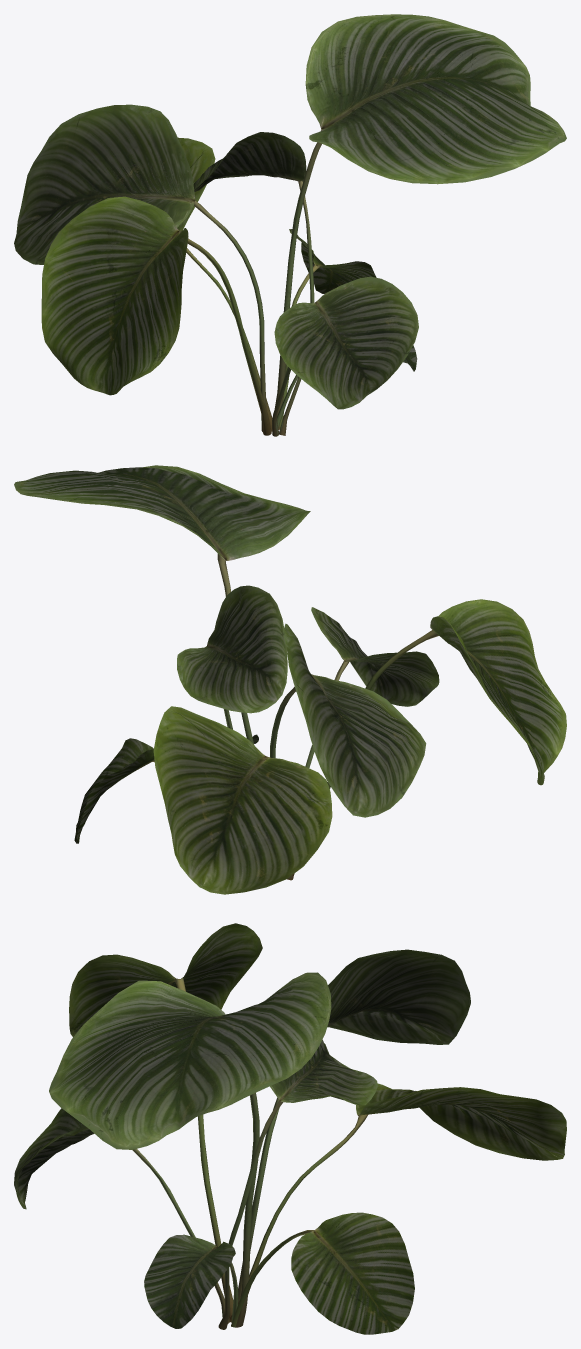
The model's file is calathea.glb.
3 views of the same model, one above another, from view 1: azimuth 30°, elevation 25°; view 2: azimuth 150°, elevation 25°; view 3: azimuth 270°, elevation 25° (orthographic). The views are drawn at different scales.
Visible parts, largest first — view 1: calathea_orbifolia_01_a; view 2: calathea_orbifolia_01_a; view 3: calathea_orbifolia_01_a.
Boxes of the visible parts, x1=… form: calathea_orbifolia_01_a: x1=14, y1=14, x2=566, y2=436; calathea_orbifolia_01_a: x1=14, y1=465, x2=566, y2=894; calathea_orbifolia_01_a: x1=14, y1=923, x2=566, y2=1334.
Bounding box in the file's own units: 0.6006 × 0.4243 × 0.5257.
Materials: 1 (1 with a texture image).
